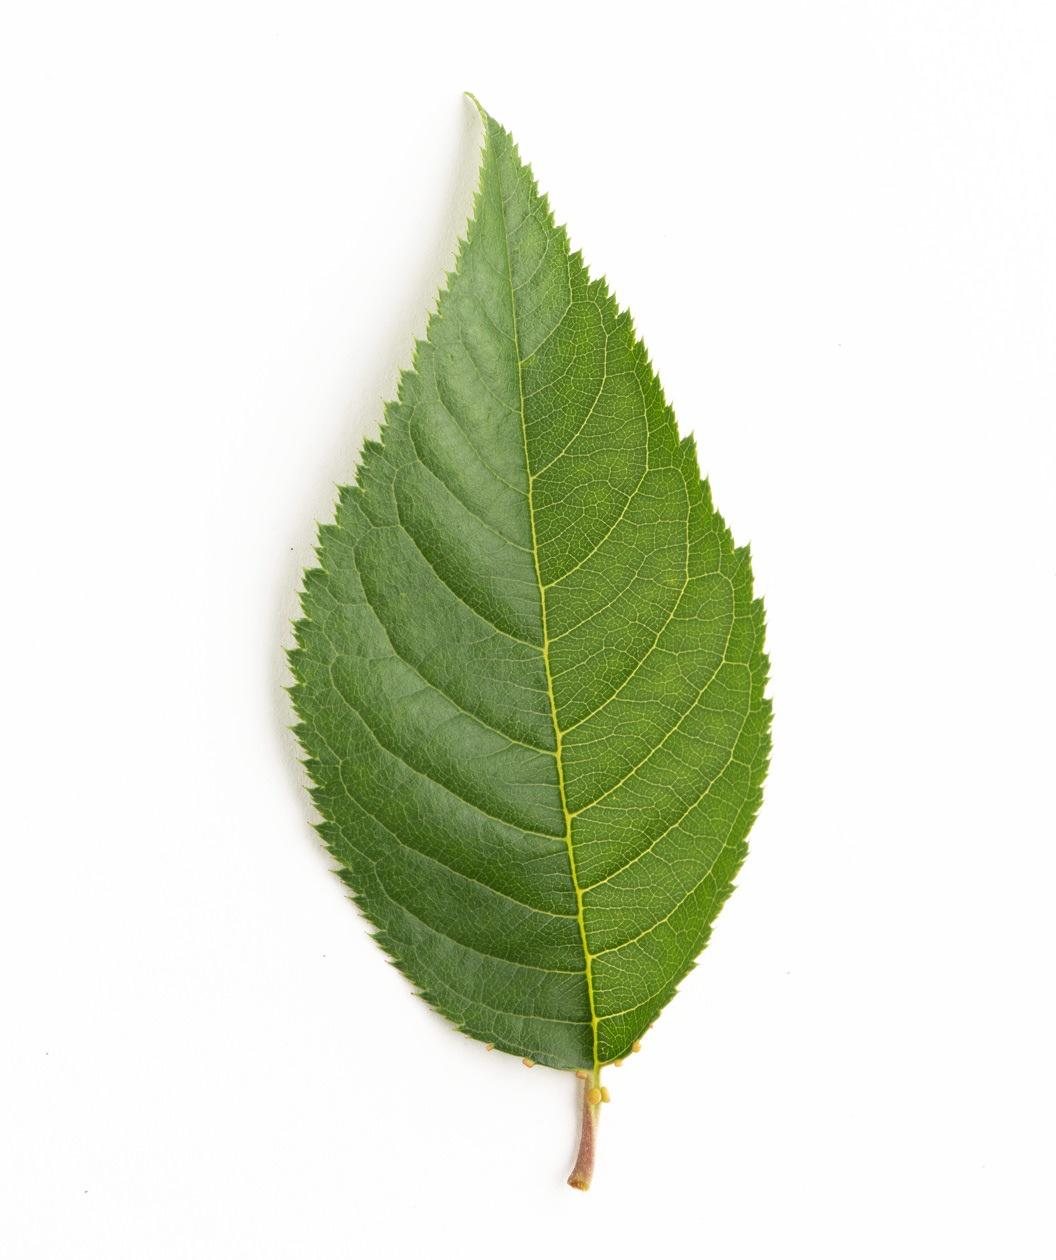Cherry leaf: (278, 66, 823, 1100)
